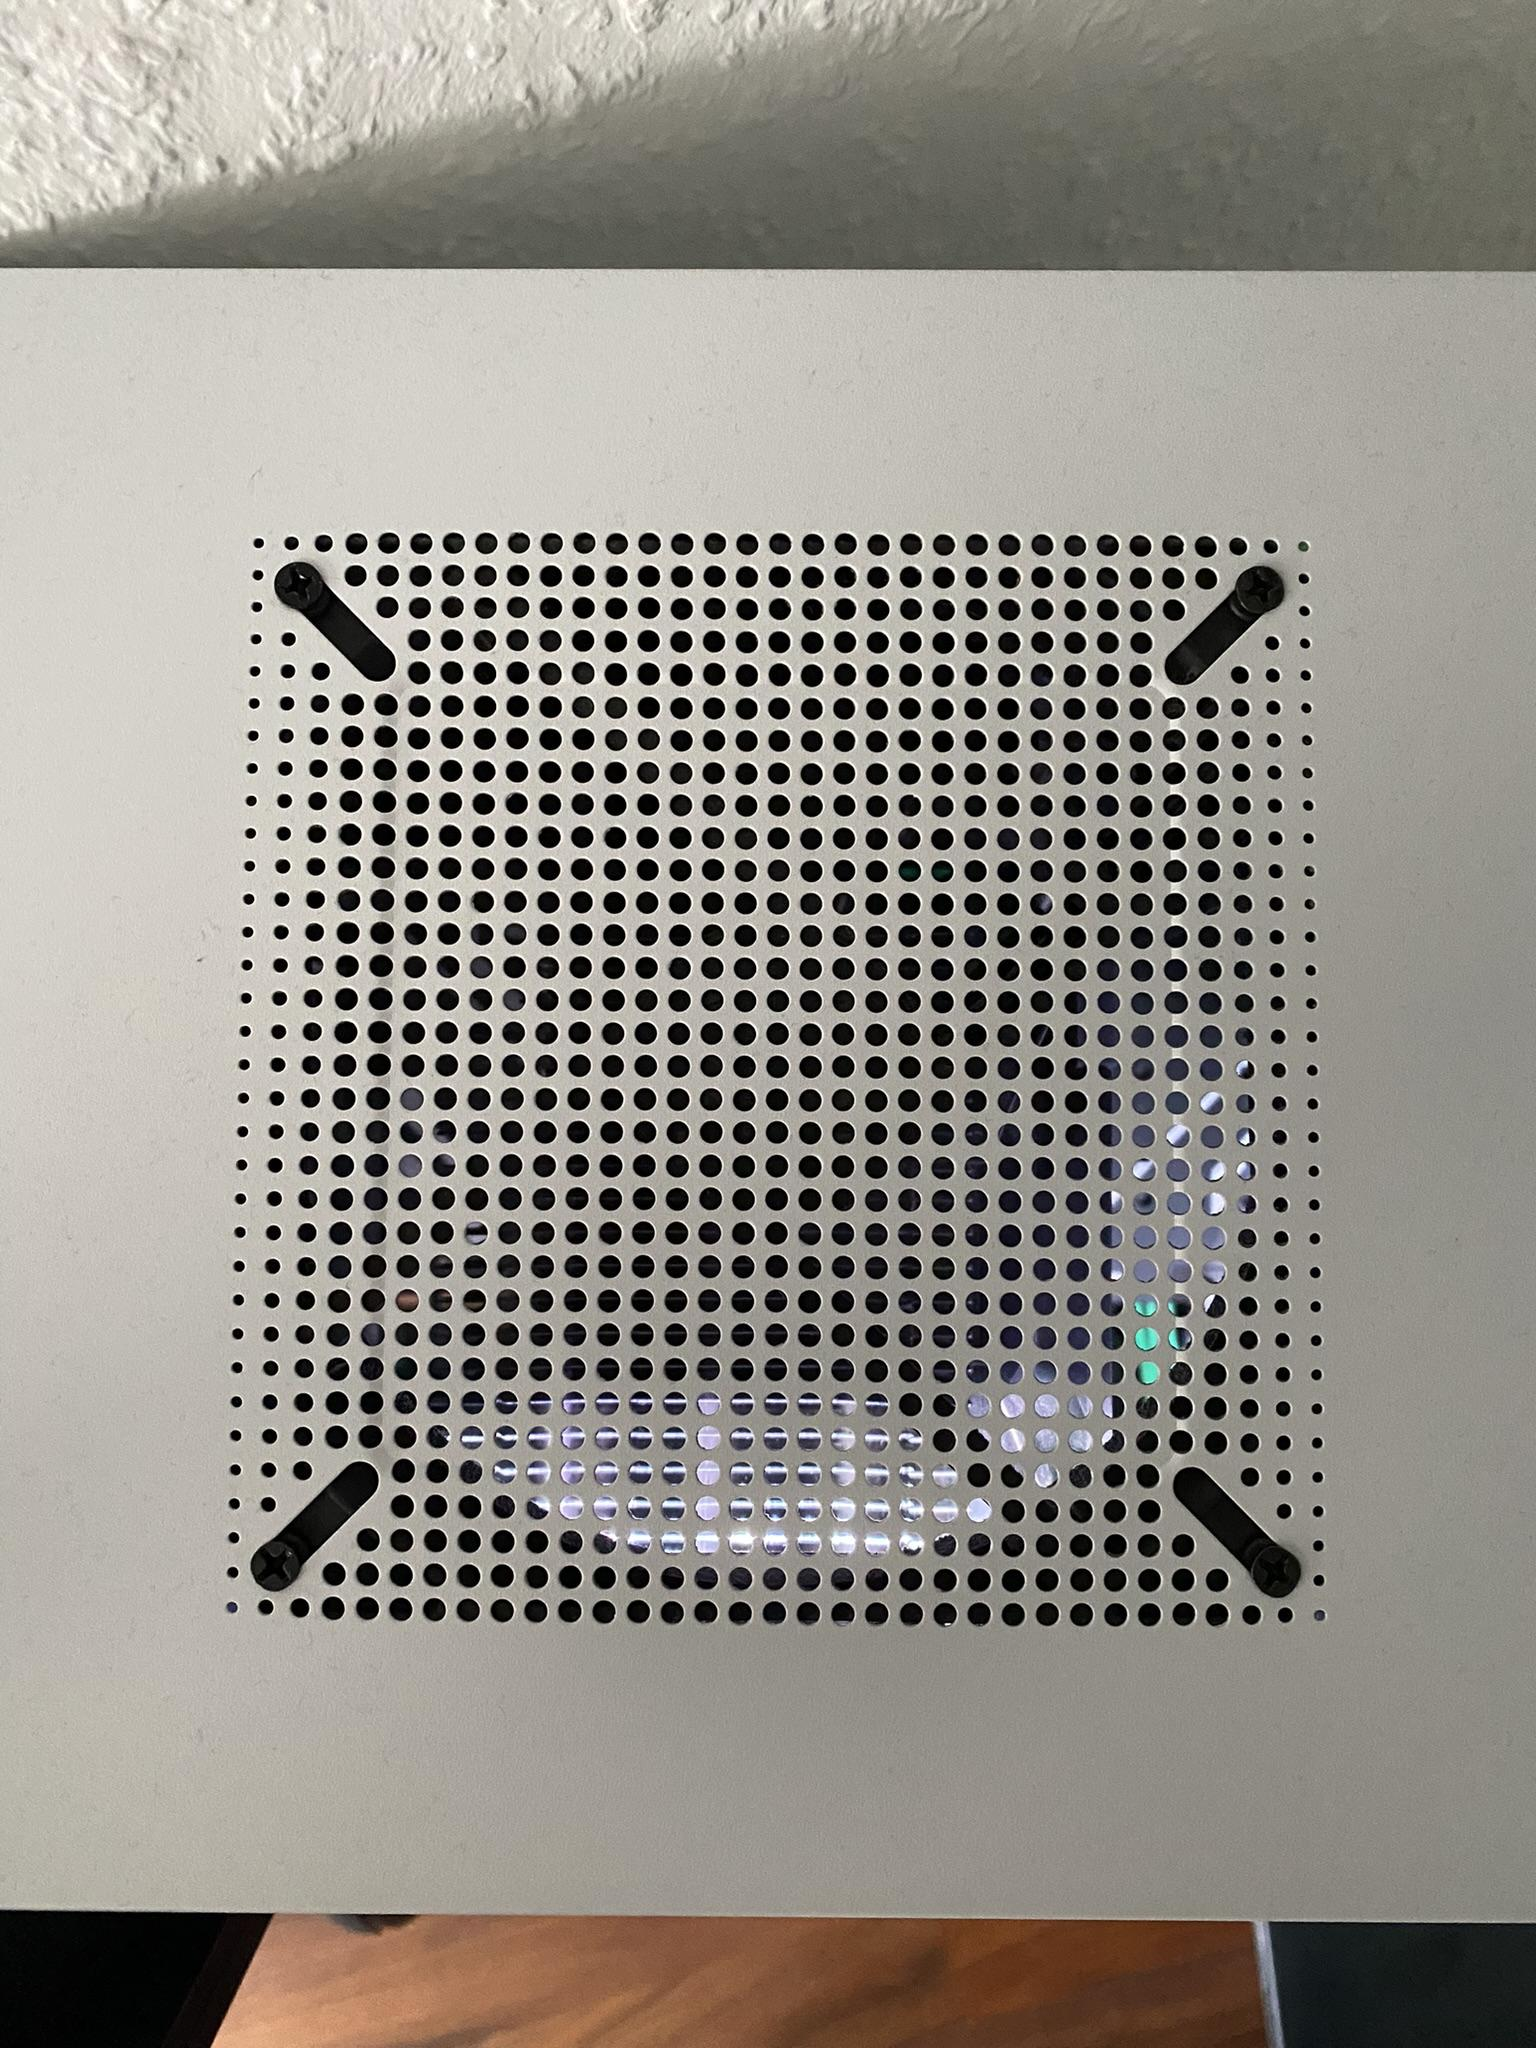PH: (269, 556, 326, 613), (1233, 563, 1292, 616), (245, 1540, 303, 1593), (1250, 1540, 1302, 1600)
